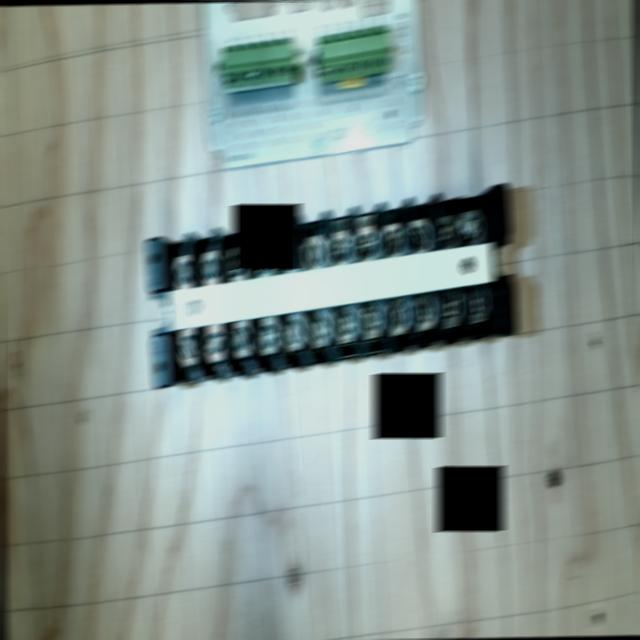Flathead_Block: (132, 185, 530, 387)
Terminal_1: (311, 24, 395, 82), (218, 37, 298, 88)
